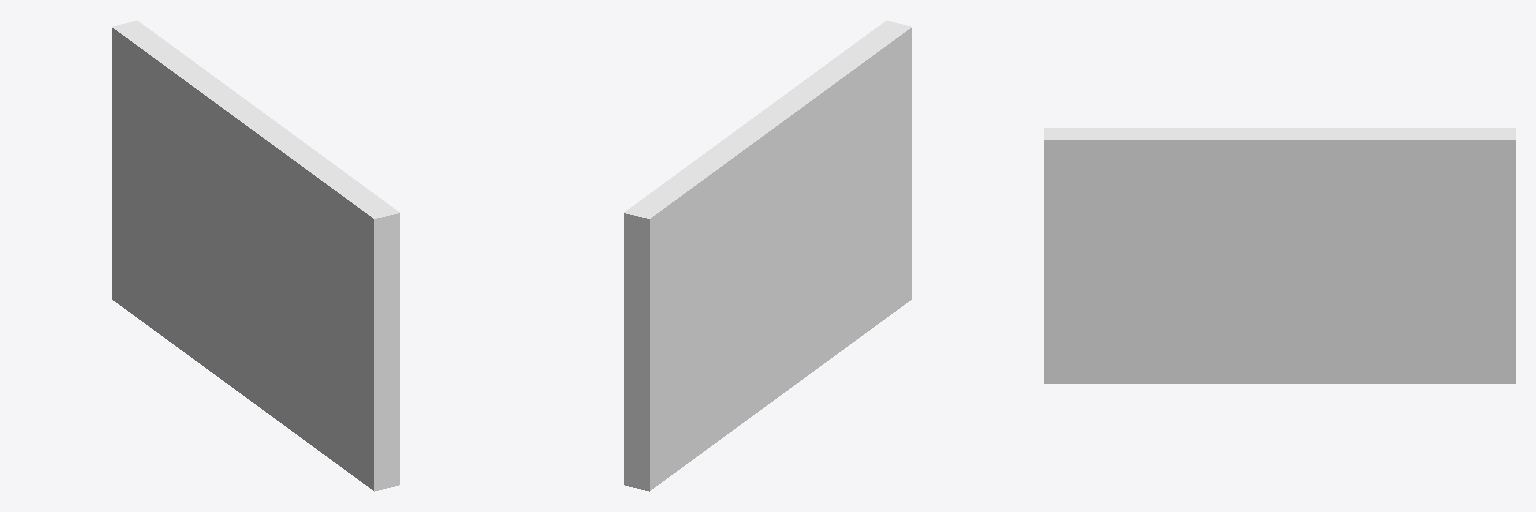
The robot description file, URDF, robot "slab":
<robot name="slab">
  <link name="slab">

    <inertial>
      <origin xyz="0 0 0" />
      <mass value="0.1" />
      <inertia  ixx="0.00003375" ixy="0.0"  ixz="0.0"  iyy="0.00003375"  iyz="0.0"  izz="0.00003375" />
    </inertial>

    <visual>
      <origin xyz="0 0 0"/>
      <geometry>
        <box size="0.02 0.35 0.2" />
      </geometry>
      <material name="white">
        <color rgba="1.0 1.0 1.0 1.0"/>
      </material>
    </visual>

    <collision>
      <origin xyz="0 0 0"/>
      <geometry>
        <box size="0.02 0.35 0.2" />
      </geometry>
    </collision>
  </link>
</robot>

--- Render facts (derived) ---
3 views of the same robot in one strip: view 1: azimuth 30°, elevation 25°; view 2: azimuth 150°, elevation 25°; view 3: azimuth 270°, elevation 25° (orthographic).
Robot: slab — 1 links, 0 joints (none); root link slab; default pose: every joint at zero.
Visible links, largest first — view 1: slab; view 2: slab; view 3: slab.
Link boxes in pixels (x1,y1,x2,y2): slab: (112,20,399,491); slab: (624,20,911,491); slab: (1044,128,1515,383).
Size in the robot's own frame: 0.02 by 0.35 by 0.2 metres.
Geometry: primitives only (box / cylinder / sphere), no mesh files.